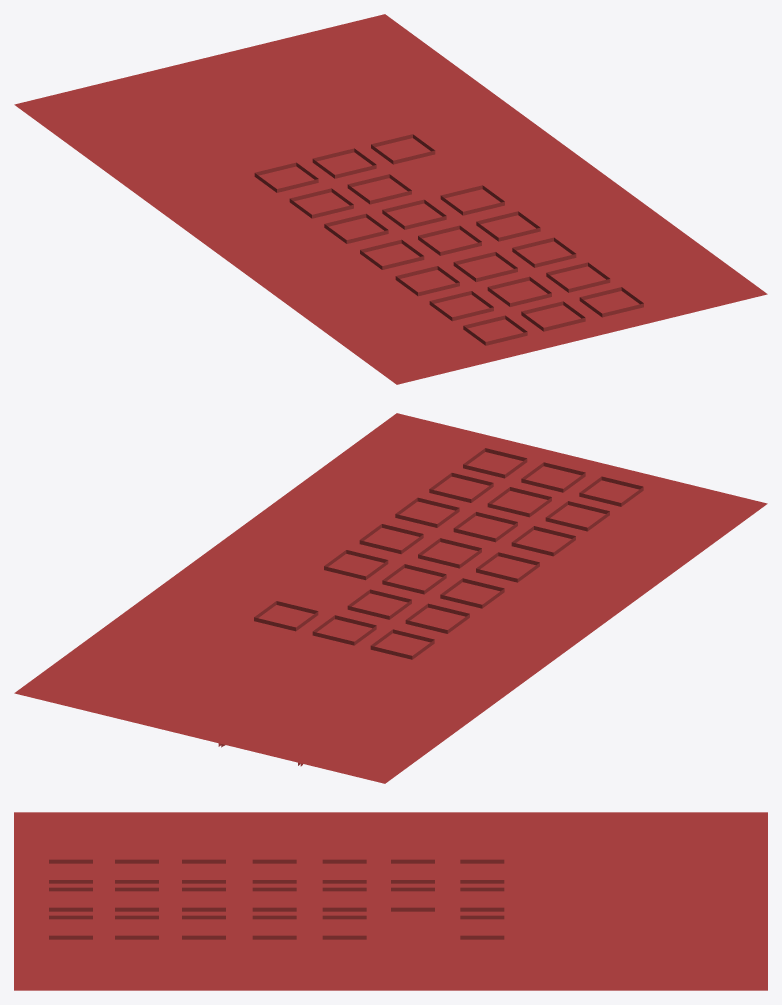
File: studio_no_collider.obj
The picture shows the model from 3 angles, top to bottom: view 1: azimuth 30°, elevation 25°; view 2: azimuth 150°, elevation 25°; view 3: azimuth 270°, elevation 25°; orthographic projection.
Visible parts, largest first — view 1: level.001_Plane.002; view 2: level.001_Plane.002; view 3: level.001_Plane.002.
Part boxes in pixels (x1,y1,x2,y2): level.001_Plane.002: [14, 14, 767, 384]; level.001_Plane.002: [14, 413, 767, 783]; level.001_Plane.002: [14, 812, 767, 990].
Size of the model in its own units: 30.02 by 5.12 by 53.65.
